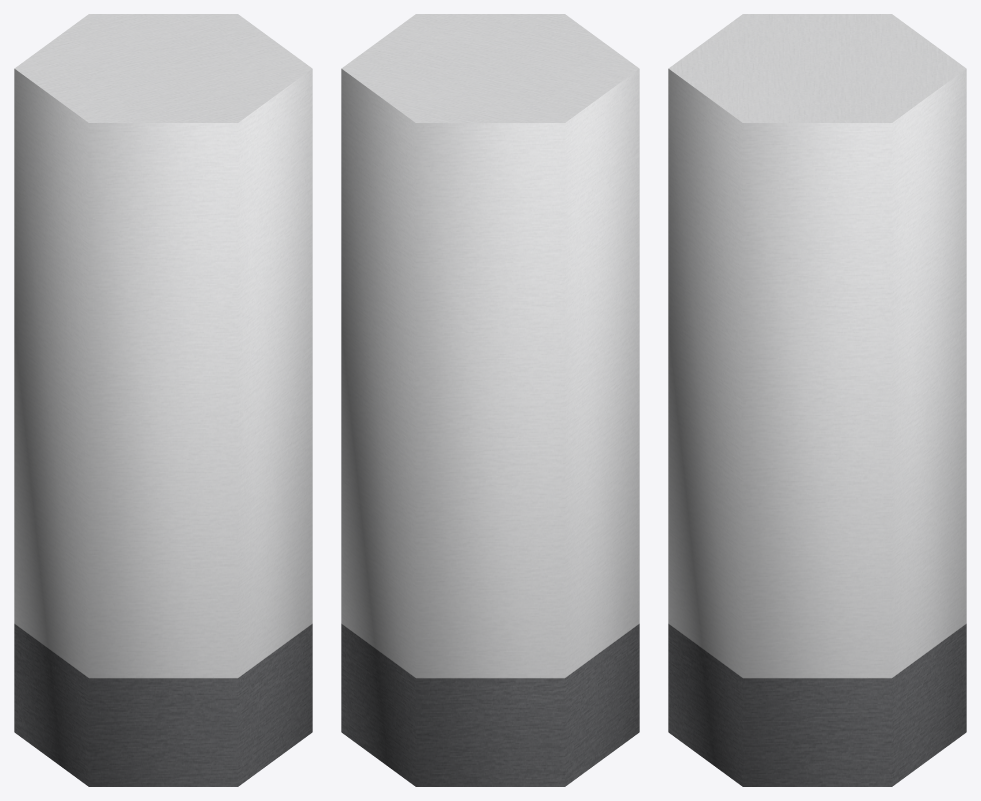
Rendered from grain-silo-hopper-6x16cbj_LOD02.gltf.
3 renders of one model, left to right at view 1: azimuth 30°, elevation 25°; view 2: azimuth 150°, elevation 25°; view 3: azimuth 270°, elevation 25°, orthographic.
Visible parts, largest first — view 1: grain-silo-simple; view 2: grain-silo-simple; view 3: grain-silo-simple.
Boxes of the visible parts, x1,y1,x2,y2 form: grain-silo-simple: [14, 14, 312, 786]; grain-silo-simple: [341, 14, 639, 786]; grain-silo-simple: [668, 14, 966, 786].
Size of what is drawn, in the model's own units: 4.85 by 13.76 by 5.6.
